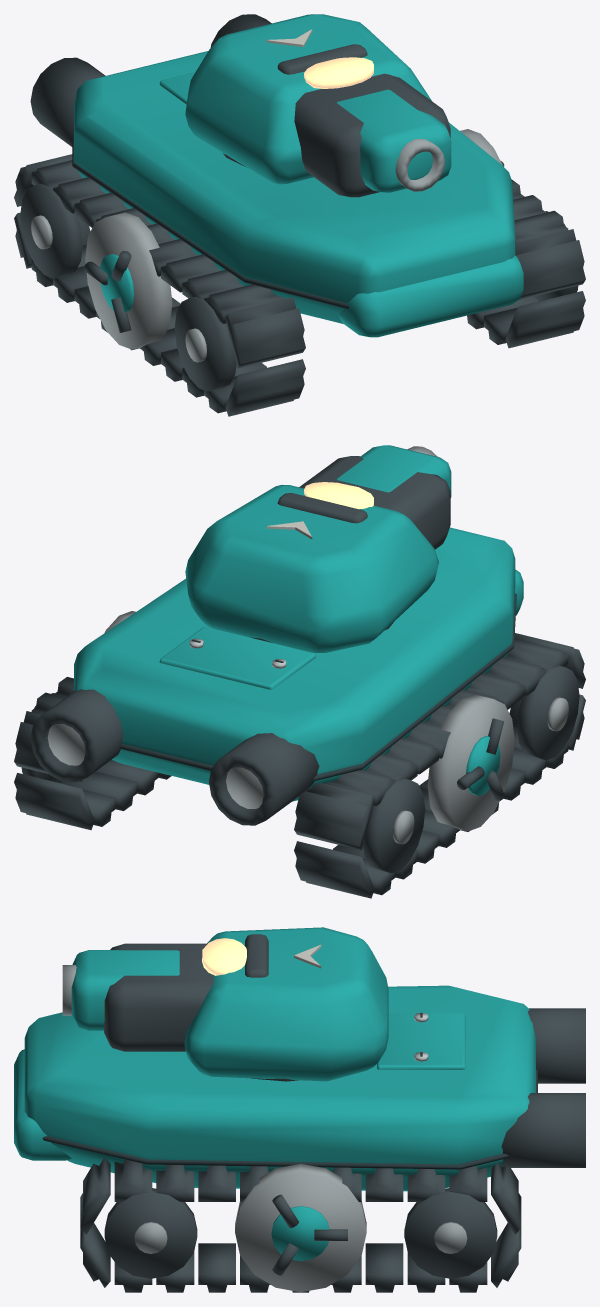
The model's file is TOY_ZIPPER.lo.glb.
3 views of the same model, one above another, from view 1: azimuth 30°, elevation 25°; view 2: azimuth 150°, elevation 25°; view 3: azimuth 270°, elevation 25° (orthographic). The views are drawn at different scales.
Parts seen in each view (by area): view 1: Body, TurretYaw, WheelLeft, BarrelRecoil, ChargeEye; view 2: Body, TurretYaw, WheelLeft, BarrelRecoil, ChargeEye; view 3: Body, TurretYaw, WheelRight, BarrelRecoil, ChargeEye.
Part boxes in pixels (left/top/right/bottom): Body: left=14, top=14, right=585, bottom=416; TurretYaw: left=185, top=14, right=450, bottom=197; WheelLeft: left=84, top=212, right=172, bottom=349; BarrelRecoil: left=337, top=89, right=451, bottom=192; ChargeEye: left=304, top=57, right=373, bottom=88; Body: left=14, top=527, right=585, bottom=898; TurretYaw: left=185, top=456, right=450, bottom=652; WheelLeft: left=427, top=694, right=514, bottom=831; BarrelRecoil: left=337, top=445, right=451, bottom=497; ChargeEye: left=304, top=482, right=373, bottom=509; Body: left=14, top=985, right=585, bottom=1292; TurretYaw: left=104, top=927, right=388, bottom=1081; WheelRight: left=235, top=1164, right=366, bottom=1292; BarrelRecoil: left=62, top=950, right=179, bottom=1030; ChargeEye: left=202, top=938, right=246, bottom=975.
Bounding box in the file's own units: 0.731 × 0.4865 × 0.973.
